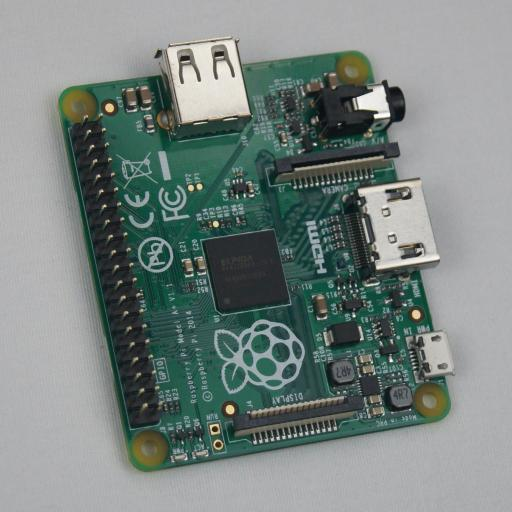Raspberry Pi A-: (58, 37, 454, 472)
